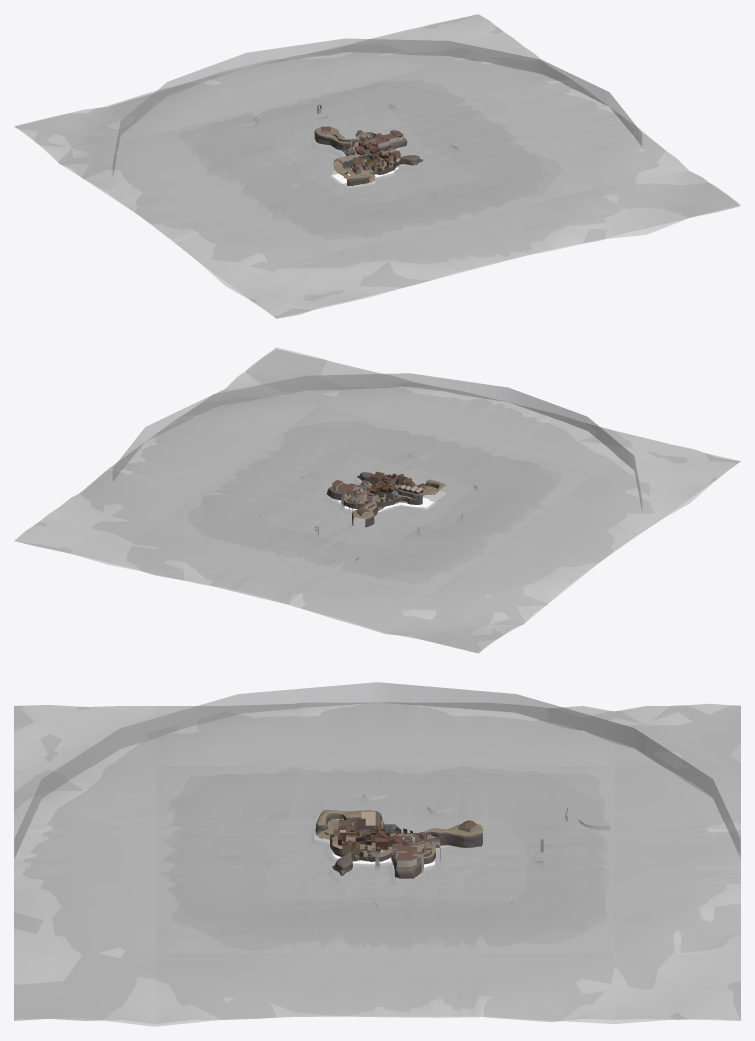
File: world.glb
3 views of the same model, one above another, from view 1: azimuth 30°, elevation 25°; view 2: azimuth 150°, elevation 25°; view 3: azimuth 270°, elevation 25° (orthographic). The views are drawn at different scales.
Visible parts, largest first — view 1: skybox_3d_mesh, model_193_func_brush_mesh, chunk_1_0_mesh, chunk_2_0_mesh, chunk_0_0_mesh, chunk_1_3_mesh, chunk_1_2_mesh; view 2: skybox_3d_mesh, model_193_func_brush_mesh, chunk_1_3_mesh, chunk_1_2_mesh, chunk_1_1_mesh, chunk_3_3_mesh, chunk_3_2_mesh, chunk_2_2_mesh, chunk_0_1_mesh; view 3: skybox_3d_mesh, model_193_func_brush_mesh, chunk_2_1_mesh, chunk_1_3_mesh, chunk_3_2_mesh, chunk_3_3_mesh, chunk_2_0_mesh, chunk_0_0_mesh, chunk_2_2_mesh, chunk_1_1_mesh, chunk_1_0_mesh, chunk_3_1_mesh (+2 smaller).
Part boxes in pixels (x1,y1,x2,y2): skybox_3d_mesh: [14, 14, 740, 318]; model_193_func_brush_mesh: [289, 124, 450, 196]; chunk_1_0_mesh: [363, 157, 405, 188]; chunk_2_0_mesh: [389, 156, 436, 182]; chunk_0_0_mesh: [339, 167, 381, 194]; chunk_1_3_mesh: [303, 126, 347, 153]; chunk_1_2_mesh: [321, 136, 369, 159]; skybox_3d_mesh: [14, 347, 740, 653]; model_193_func_brush_mesh: [294, 466, 455, 539]; chunk_1_3_mesh: [338, 504, 389, 533]; chunk_1_2_mesh: [360, 488, 397, 519]; chunk_1_1_mesh: [372, 474, 415, 507]; chunk_3_3_mesh: [293, 501, 343, 521]; chunk_3_2_mesh: [310, 480, 348, 507]; chunk_2_2_mesh: [341, 483, 374, 511]; chunk_0_1_mesh: [396, 485, 438, 509]; skybox_3d_mesh: [14, 682, 740, 1026]; model_193_func_brush_mesh: [295, 826, 487, 889]; chunk_2_1_mesh: [338, 836, 394, 876]; chunk_1_3_mesh: [435, 820, 487, 856]; chunk_3_2_mesh: [394, 852, 440, 886]; chunk_3_3_mesh: [435, 864, 488, 886]; chunk_2_0_mesh: [294, 836, 345, 875]; chunk_0_0_mesh: [294, 810, 346, 843]; chunk_2_2_mesh: [388, 833, 440, 873]; chunk_1_1_mesh: [340, 818, 395, 847]; chunk_1_0_mesh: [294, 826, 345, 856]; chunk_3_1_mesh: [338, 859, 395, 886].
Bounding box in the file's own units: 48128 × 2658 × 47106.
